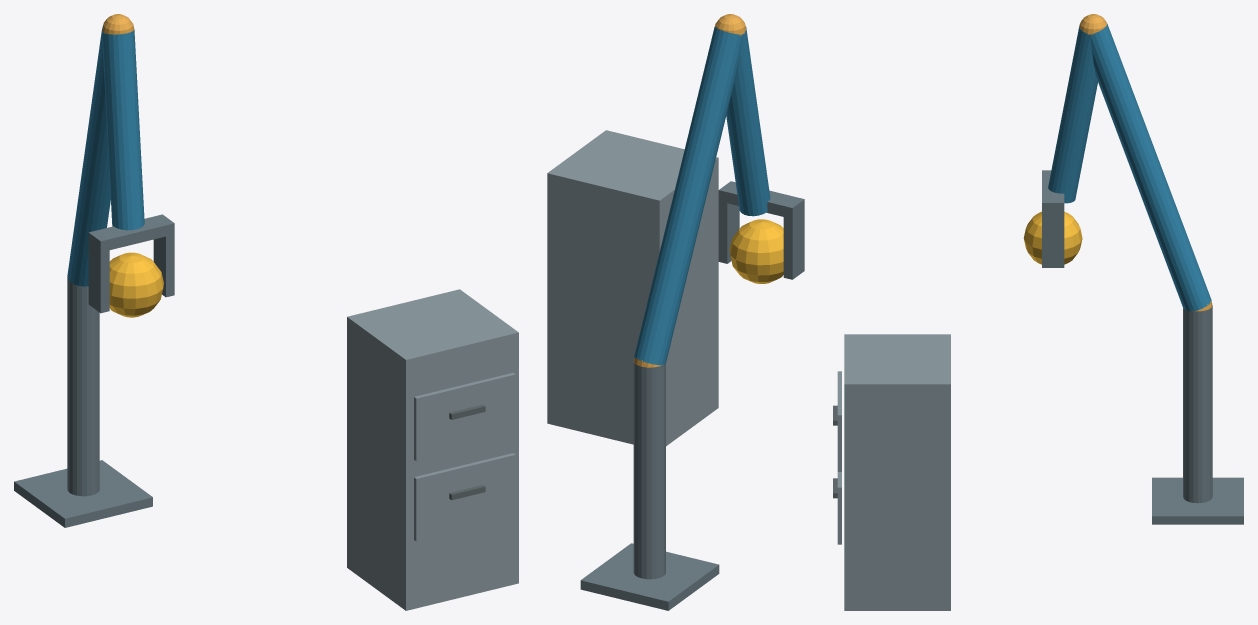
3 views of the same model, side by side, from view 1: azimuth 30°, elevation 25°; view 2: azimuth 150°, elevation 25°; view 3: azimuth 270°, elevation 25° (orthographic). The views are drawn at different scales.
Visible parts, largest first — view 1: cabinet_1 body, fixed post, moving link 2, cabinet_1 drawer front.001, cabinet_1 drawer front, moving link 1, pedestal, ball ball_1, gripper bridge, gripper finger -1, gripper finger 1; view 2: cabinet_1 body, moving link 1, fixed post, pedestal, moving link 2, ball ball_1, gripper finger -1, gripper bridge, gripper finger 1, joint 2; view 3: cabinet_1 body, moving link 1, fixed post, moving link 2, pedestal, ball ball_1, gripper finger 1, gripper bridge.
Boxes of the visible parts, x1=… form: cabinet_1 body: x1=347, y1=289, x2=518, y2=610; fixed post: x1=67, y1=276, x2=99, y2=496; moving link 2: x1=102, y1=29, x2=144, y2=230; cabinet_1 drawer front.001: x1=414, y1=372, x2=515, y2=461; cabinet_1 drawer front: x1=414, y1=453, x2=515, y2=541; moving link 1: x1=67, y1=26, x2=110, y2=286; pedestal: x1=14, y1=460, x2=152, y2=527; ball ball_1: x1=109, y1=252, x2=163, y2=317; gripper bridge: x1=88, y1=214, x2=174, y2=252; gripper finger -1: x1=88, y1=244, x2=109, y2=313; gripper finger 1: x1=153, y1=234, x2=174, y2=297; cabinet_1 body: x1=547, y1=130, x2=718, y2=446; moving link 1: x1=634, y1=26, x2=742, y2=365; fixed post: x1=633, y1=361, x2=665, y2=579; pedestal: x1=580, y1=543, x2=719, y2=610; moving link 2: x1=726, y1=26, x2=770, y2=216; ball ball_1: x1=729, y1=219, x2=783, y2=283; gripper finger -1: x1=783, y1=210, x2=804, y2=279; gripper bridge: x1=718, y1=181, x2=804, y2=218; gripper finger 1: x1=718, y1=201, x2=739, y2=263; joint 2: x1=715, y1=14, x2=746, y2=35; cabinet_1 body: x1=844, y1=334, x2=950, y2=610; moving link 1: x1=1090, y1=24, x2=1211, y2=311; fixed post: x1=1183, y1=305, x2=1212, y2=503; moving link 2: x1=1048, y1=25, x2=1097, y2=203; pedestal: x1=1152, y1=477, x2=1243, y2=524; ball ball_1: x1=1023, y1=211, x2=1082, y2=264; gripper finger 1: x1=1042, y1=213, x2=1064, y2=267; gripper bridge: x1=1042, y1=170, x2=1064, y2=212.
Bounding box in the file's own units: 0.8751 × 1.44 × 1.12.
